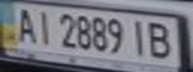2: (54, 10, 78, 49)
8: (72, 12, 93, 52), (90, 14, 109, 53)
9: (106, 16, 130, 55)
A: (12, 4, 39, 45)
B: (145, 19, 178, 61)
I: (30, 7, 57, 46), (127, 17, 151, 57)
